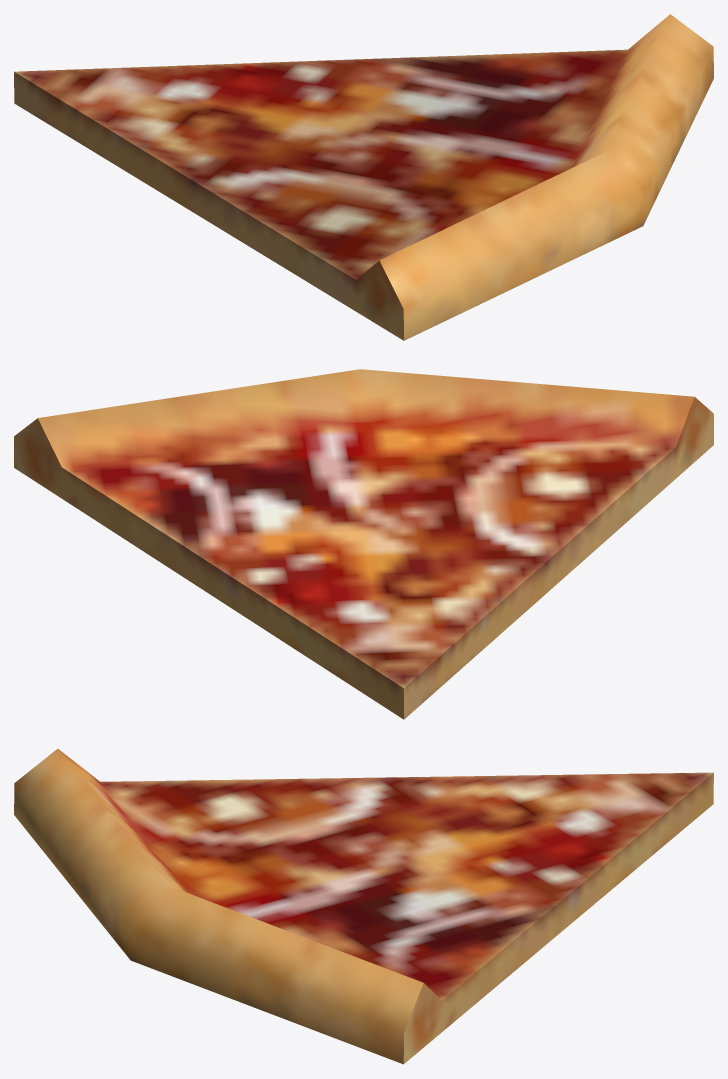
The picture shows the model from 3 angles, top to bottom: view 1: azimuth 30°, elevation 25°; view 2: azimuth 150°, elevation 25°; view 3: azimuth 270°, elevation 25°; orthographic projection.
Visible parts, largest first — view 1: pizza; view 2: pizza; view 3: pizza.
Boxes of the visible parts, x1=… form: pizza: x1=14, y1=14, x2=713, y2=340; pizza: x1=14, y1=369, x2=713, y2=719; pizza: x1=14, y1=748, x2=713, y2=1064.
Size of the model in its own units: 38.45 by 4.99 by 42.79.
1 material, 1 textured.
